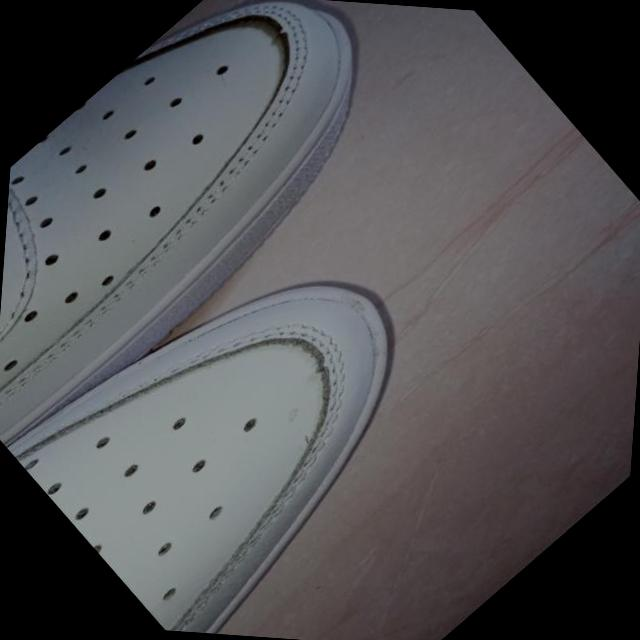nike_fake_airforce: (0, 179, 505, 640), (0, 0, 440, 491)
